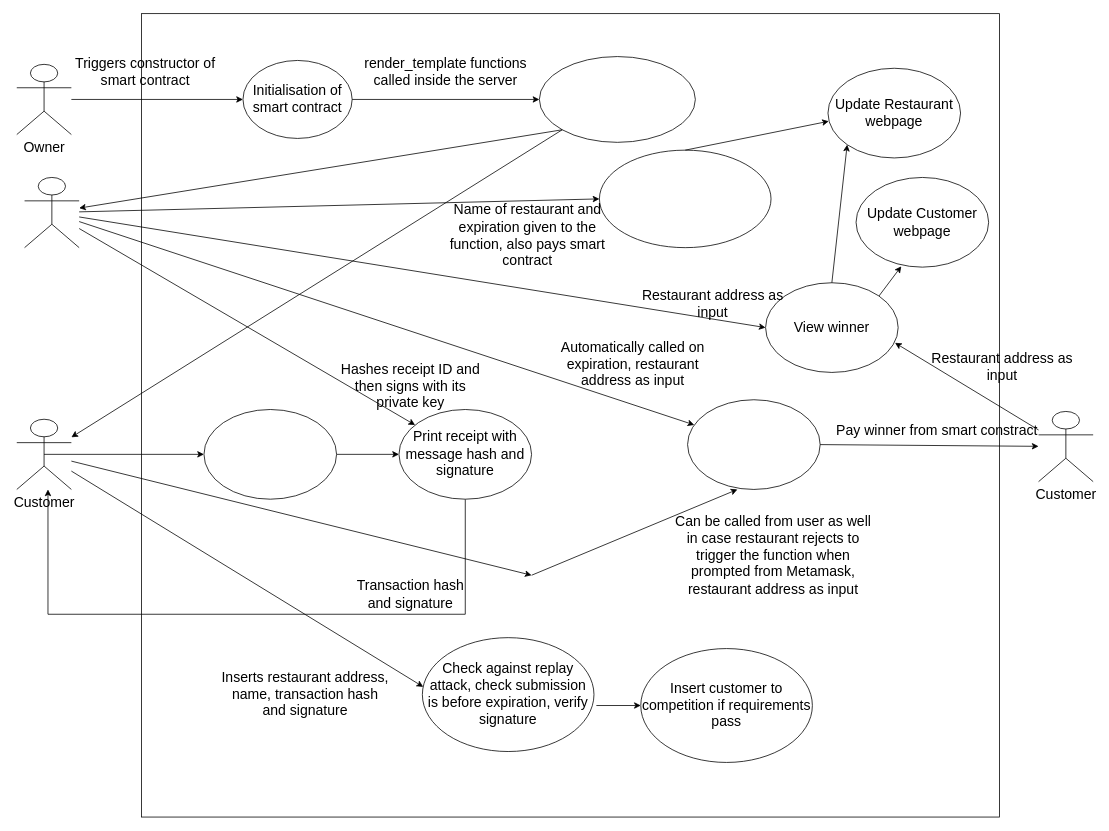
The diagram is 1109 pixels wide and 831 high, and some of its shapes have lost their labels. Here are the shapes that lost their labels. From the top down, the box of each, then its label:
(539, 56, 695, 142): Creation of intro, restaurant and customer webpages
(24, 177, 79, 248): Restaurant
(599, 149, 771, 248): Insert restaurant to competition
(203, 409, 337, 499): Physically visits restaurant before expiration of competition
(687, 399, 820, 489): Get winner
